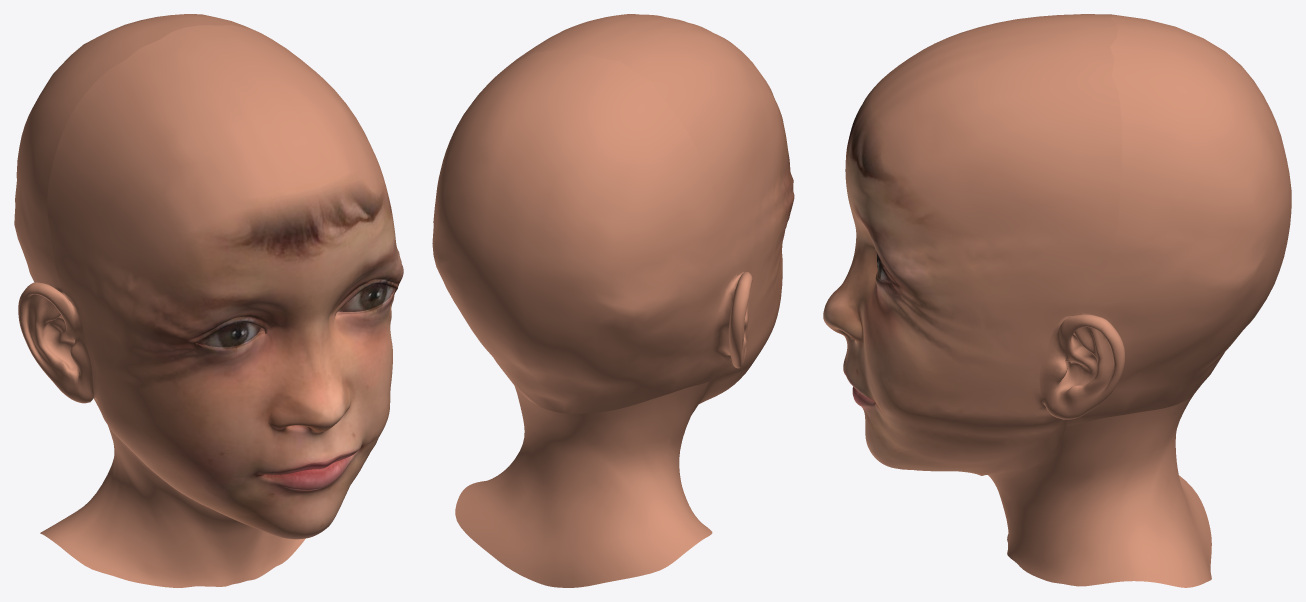
File: PrintAheadProject.obj
The picture shows the model from 3 angles, left to right: view 1: azimuth 30°, elevation 25°; view 2: azimuth 150°, elevation 25°; view 3: azimuth 270°, elevation 25°; orthographic projection. The views are drawn at different scales.
Visible parts, largest first — view 1: Face, Torso, Head, Ears, EyeReflection, Lips; view 2: Head, Torso, Face, Ears; view 3: Face, Head, Torso, Ears.
Part boxes in pixels (x1,y1,x2,y2): Face: [47, 25, 403, 539]; Torso: [40, 426, 305, 587]; Head: [14, 14, 258, 293]; Ears: [18, 282, 93, 403]; EyeReflection: [196, 284, 395, 347]; Lips: [259, 450, 358, 490]; Head: [432, 48, 739, 413]; Torso: [455, 382, 712, 587]; Face: [498, 14, 794, 404]; Ears: [728, 272, 752, 368]; Face: [823, 14, 1122, 475]; Head: [1066, 14, 1291, 426]; Torso: [988, 395, 1211, 587]; Ears: [1039, 314, 1124, 419].
Bounding box in the file's own units: 124 × 191 × 151.
